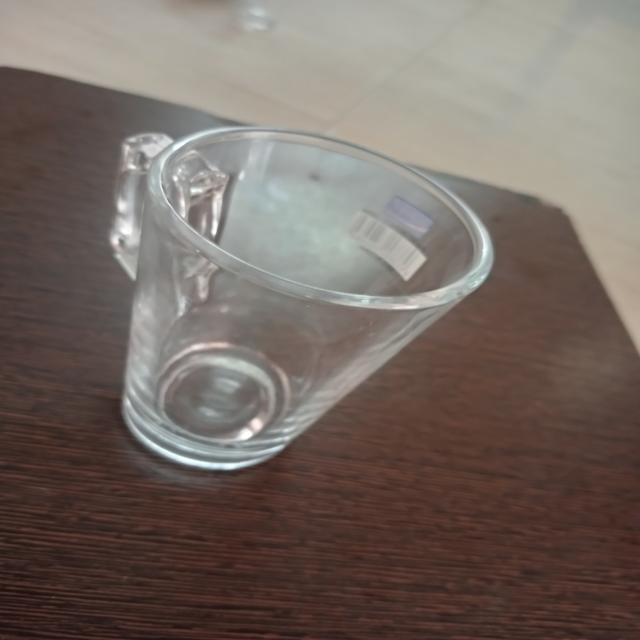glass-VX4N: (123, 126, 497, 476)
